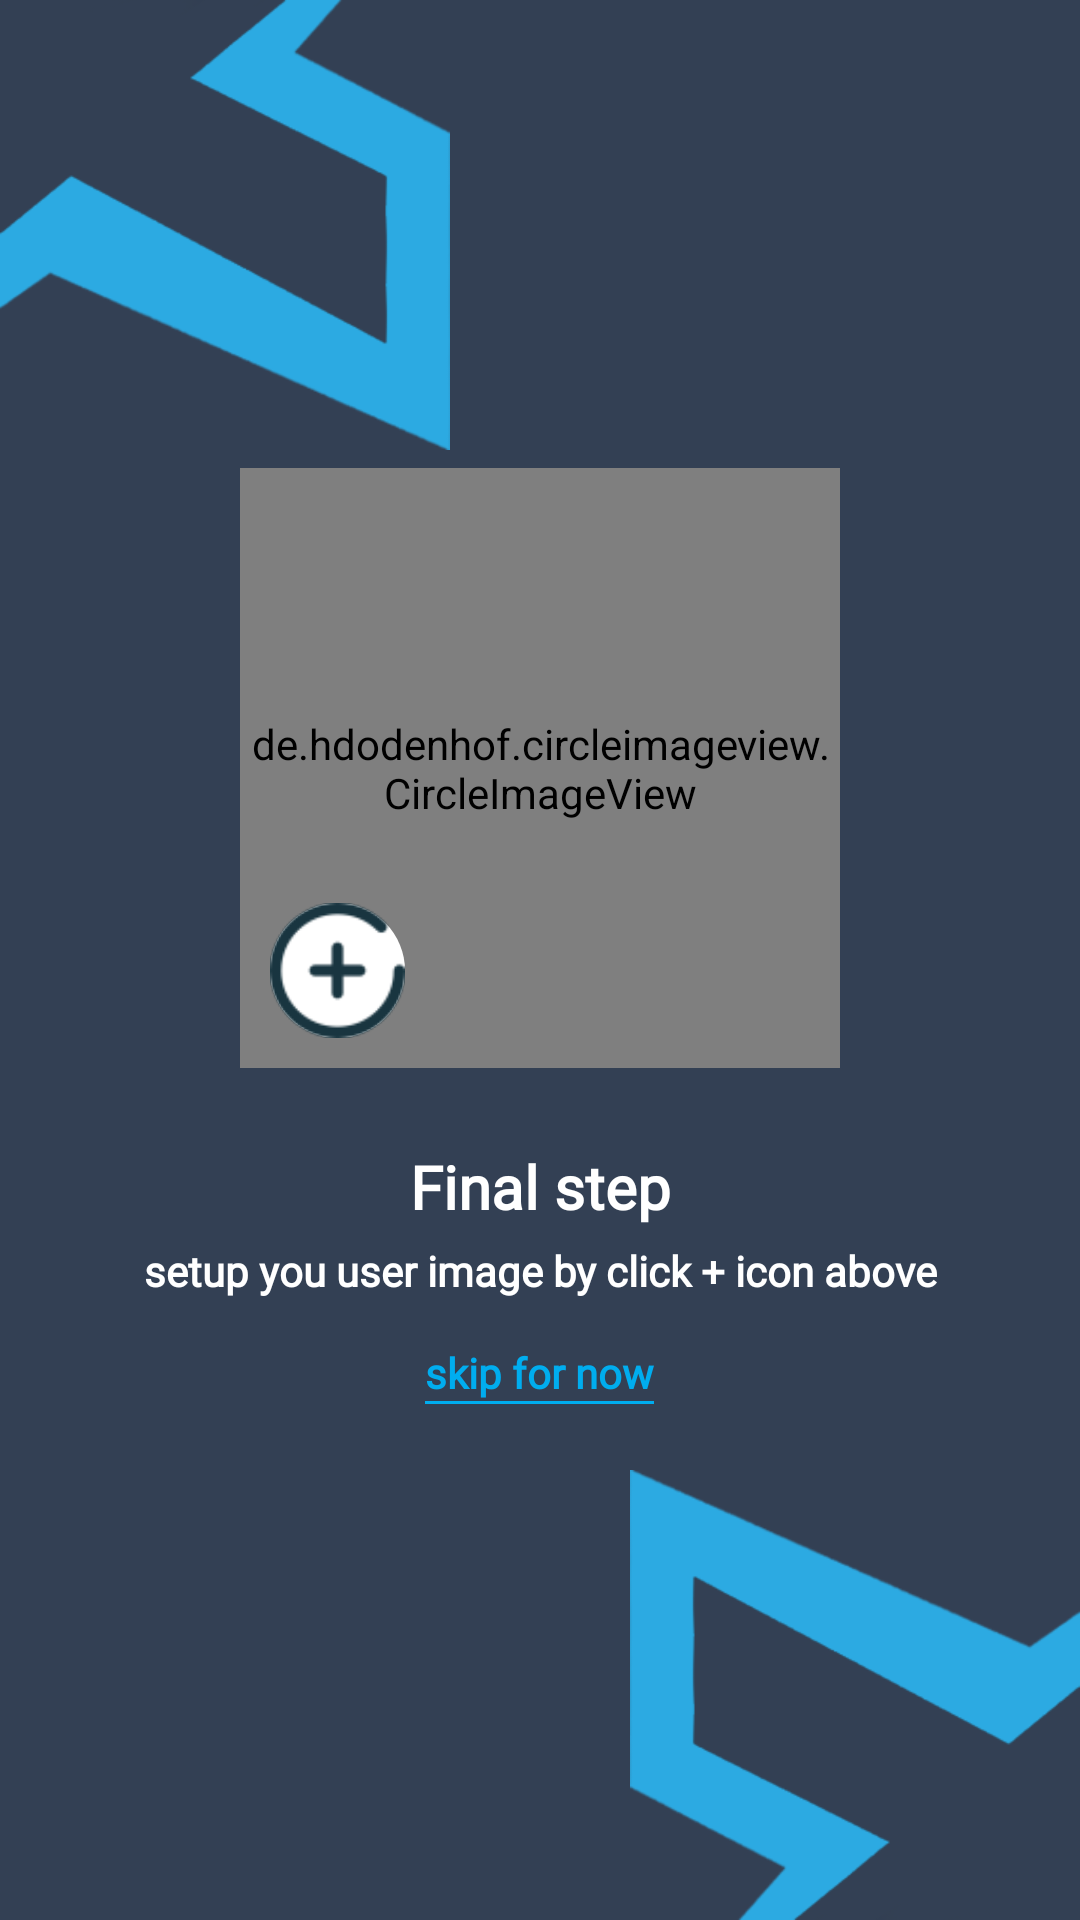

Icon bounding boxes for this 1080×1920 phone screenshot, format {"left": x1, "top": y1, "right": x2, "bottom": y2}:
add: {"left": 270, "top": 903, "right": 405, "bottom": 1038}
